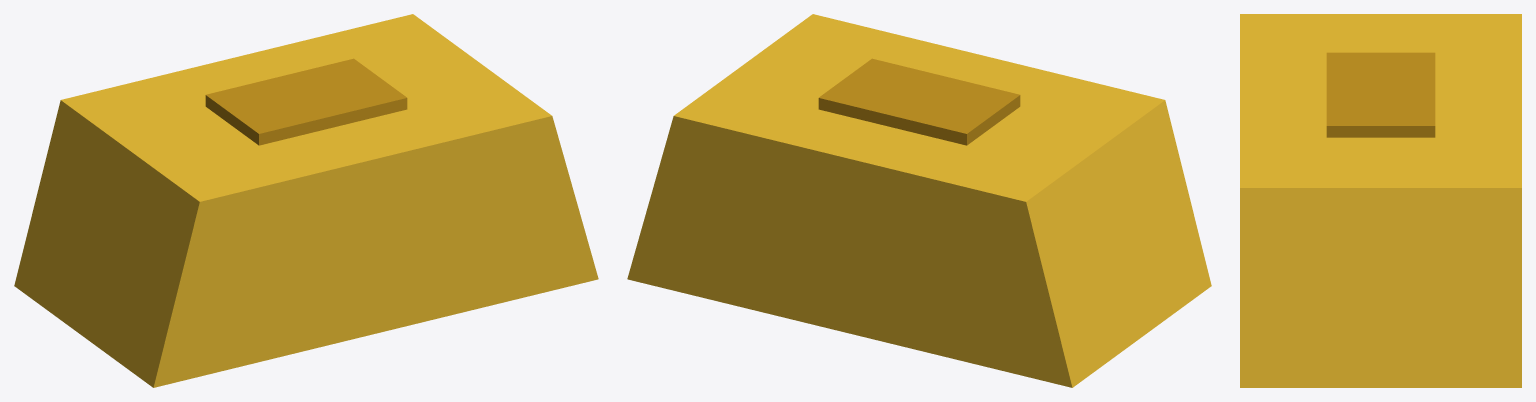
The model's file is loot_gold_bar.glb.
3 views of the same model, side by side, from view 1: azimuth 30°, elevation 25°; view 2: azimuth 150°, elevation 25°; view 3: azimuth 270°, elevation 25° (orthographic).
Parts seen in each view (by area): view 1: bar; view 2: bar; view 3: bar.
Boxes of the visible parts, <box> form: bar: <box>14,14,598,387</box>; bar: <box>627,14,1211,387</box>; bar: <box>1240,14,1521,387</box>.
Size of the model in its own units: 0.24 by 0.096 by 0.13.
1 material, 1 textured.
